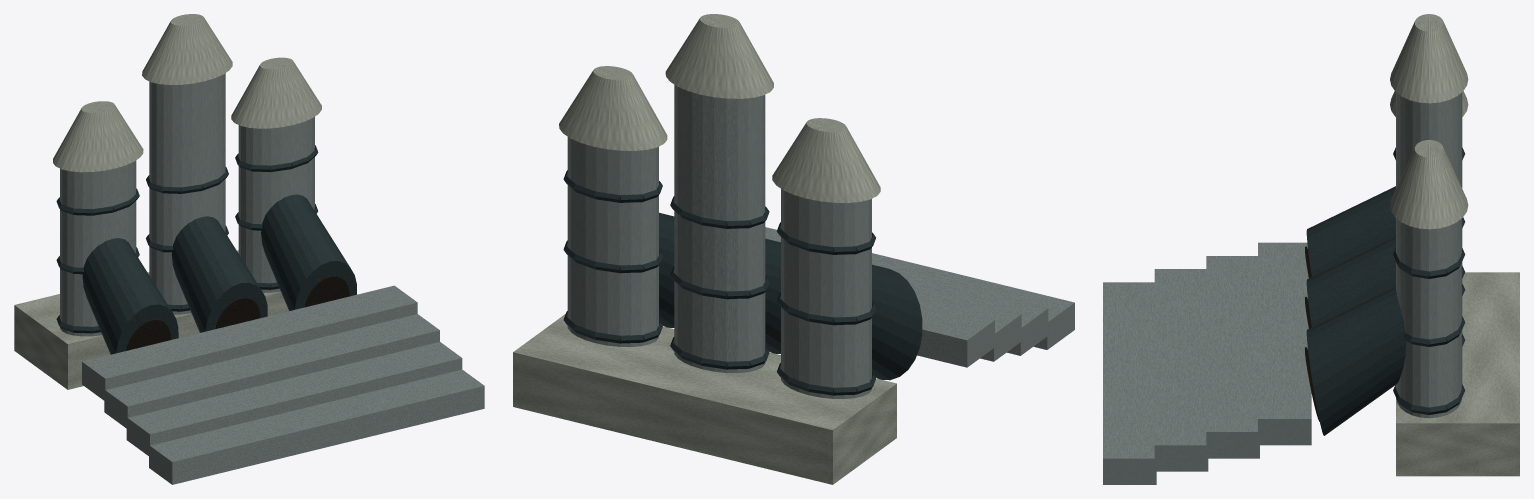
File: flup_cascade_01.fbx
3 views of the same model, side by side, from view 1: azimuth 30°, elevation 25°; view 2: azimuth 150°, elevation 25°; view 3: azimuth 270°, elevation 25° (orthographic). The views are drawn at different scales.
Visible parts, largest first — view 1: flup_cascade_01_LOD0; view 2: flup_cascade_01_LOD0; view 3: flup_cascade_01_LOD0.
Boxes of the visible parts, bbox=[...] form: flup_cascade_01_LOD0: bbox=[14, 14, 484, 484]; flup_cascade_01_LOD0: bbox=[513, 14, 1074, 484]; flup_cascade_01_LOD0: bbox=[1103, 14, 1519, 484].
Size of what is drawn, in the model's own units: 1 by 1 by 1.
